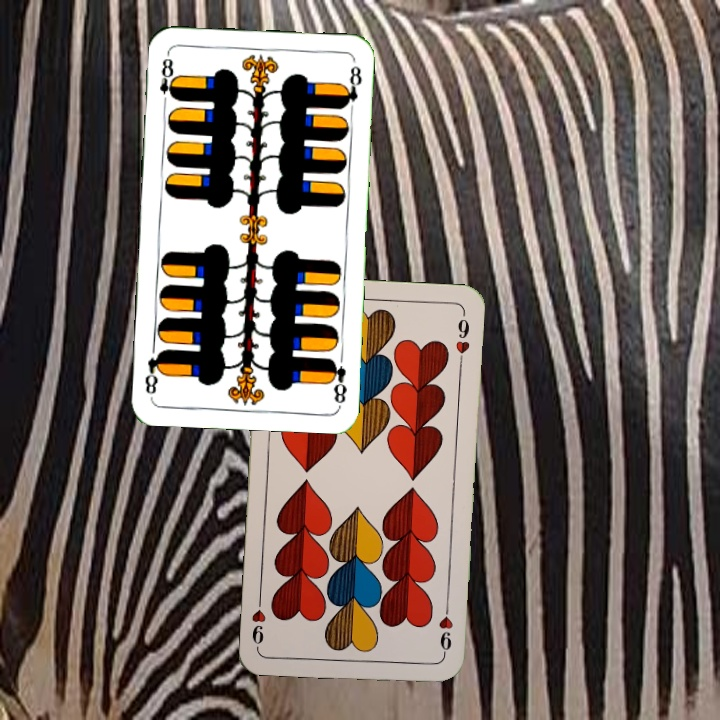E8: (156, 50, 179, 110), (325, 354, 350, 408)
H9: (434, 599, 455, 658)
